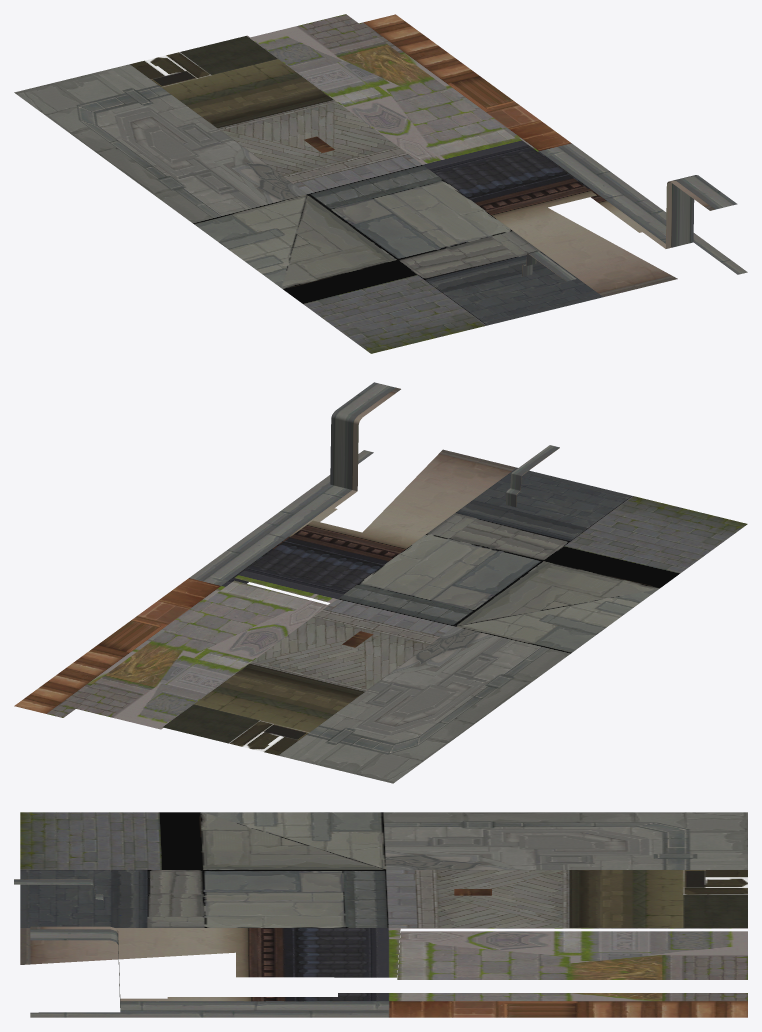
The model's file is City_shui.fbx.
3 views of the same model, one above another, from view 1: azimuth 30°, elevation 25°; view 2: azimuth 150°, elevation 25°; view 3: azimuth 270°, elevation 25° (orthographic). The views are drawn at different scales.
Visible parts, largest first — view 1: DSWC:DSWC:DSWC:DSWC:DSWC:DSWC:polySurface18; view 2: DSWC:DSWC:DSWC:DSWC:DSWC:DSWC:polySurface18; view 3: DSWC:DSWC:DSWC:DSWC:DSWC:DSWC:polySurface18.
Part boxes in pixels (x1,y1,x2,y2): DSWC:DSWC:DSWC:DSWC:DSWC:DSWC:polySurface18: [14, 14, 747, 353]; DSWC:DSWC:DSWC:DSWC:DSWC:DSWC:polySurface18: [14, 382, 747, 783]; DSWC:DSWC:DSWC:DSWC:DSWC:DSWC:polySurface18: [14, 812, 747, 1017].
Bounding box in the file's own units: 174 × 30.74 × 284.
